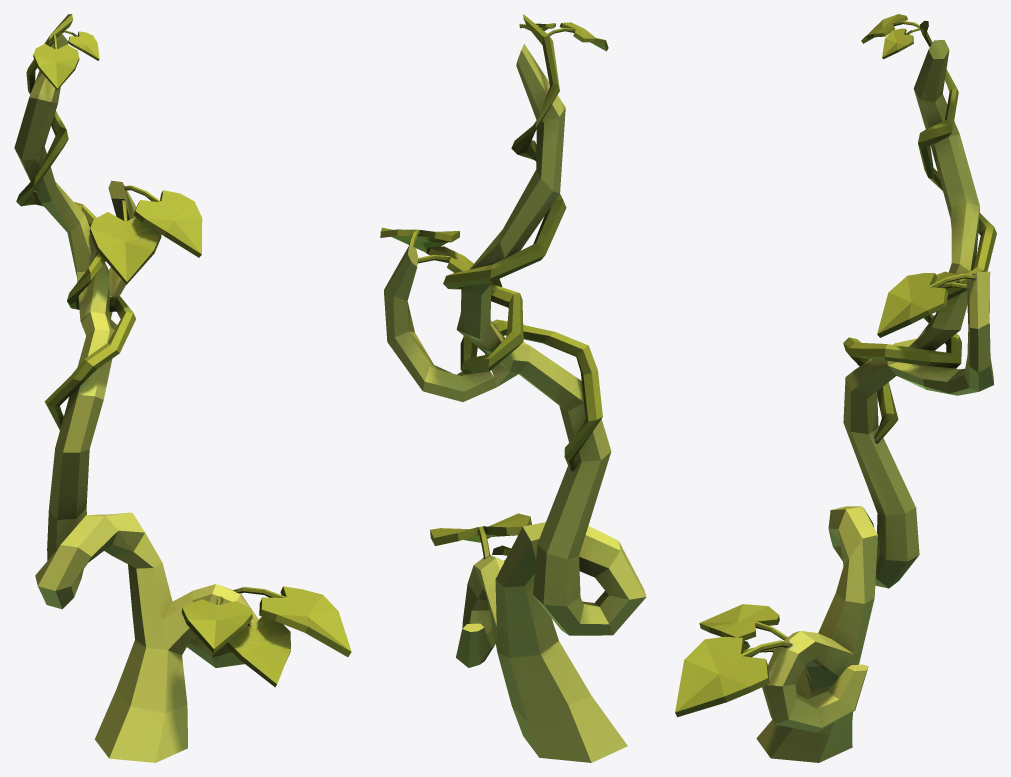
Rendered from Beanstalk-optimized.glb.
The picture shows the model from 3 angles, left to right: view 1: azimuth 30°, elevation 25°; view 2: azimuth 150°, elevation 25°; view 3: azimuth 270°, elevation 25°; orthographic projection. The views are drawn at different scales.
Visible parts, largest first — view 1: Beanstalk; view 2: Beanstalk; view 3: Beanstalk.
Part boxes in pixels (bbox=[...]): Beanstalk: bbox=[14, 14, 351, 762]; Beanstalk: bbox=[380, 14, 646, 762]; Beanstalk: bbox=[675, 14, 996, 762].
Size of the model in its own units: 1.12 by 3.06 by 1.25.
Materials: 1 (1 with a texture image).
